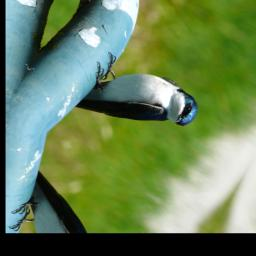Swallow: (71, 39, 207, 165)
